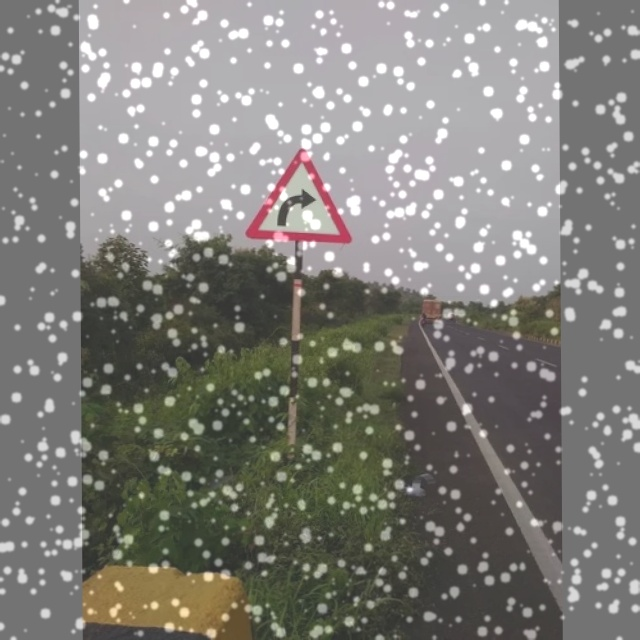Right_Hand_Curve: (242, 148, 357, 246)
